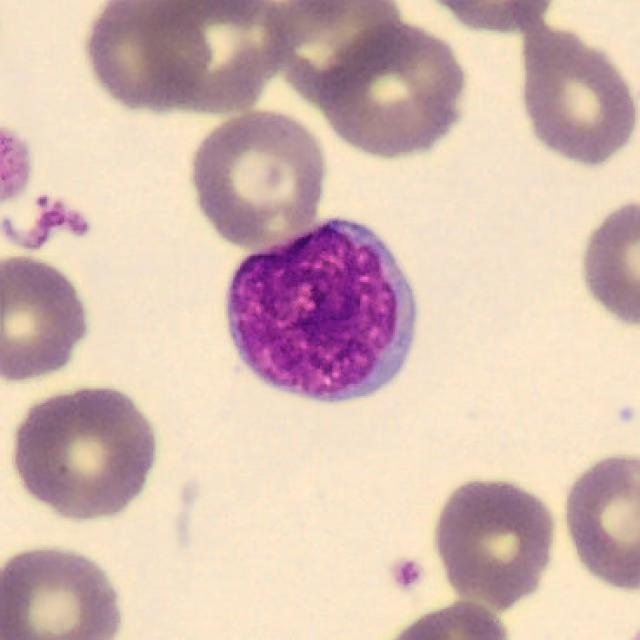Linfocito: (224, 221, 417, 405)
